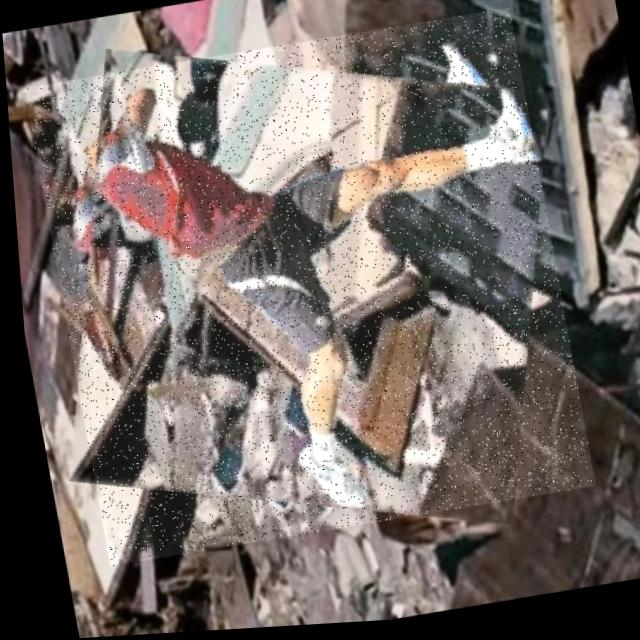Person in Rubble: (19, 10, 590, 568)
